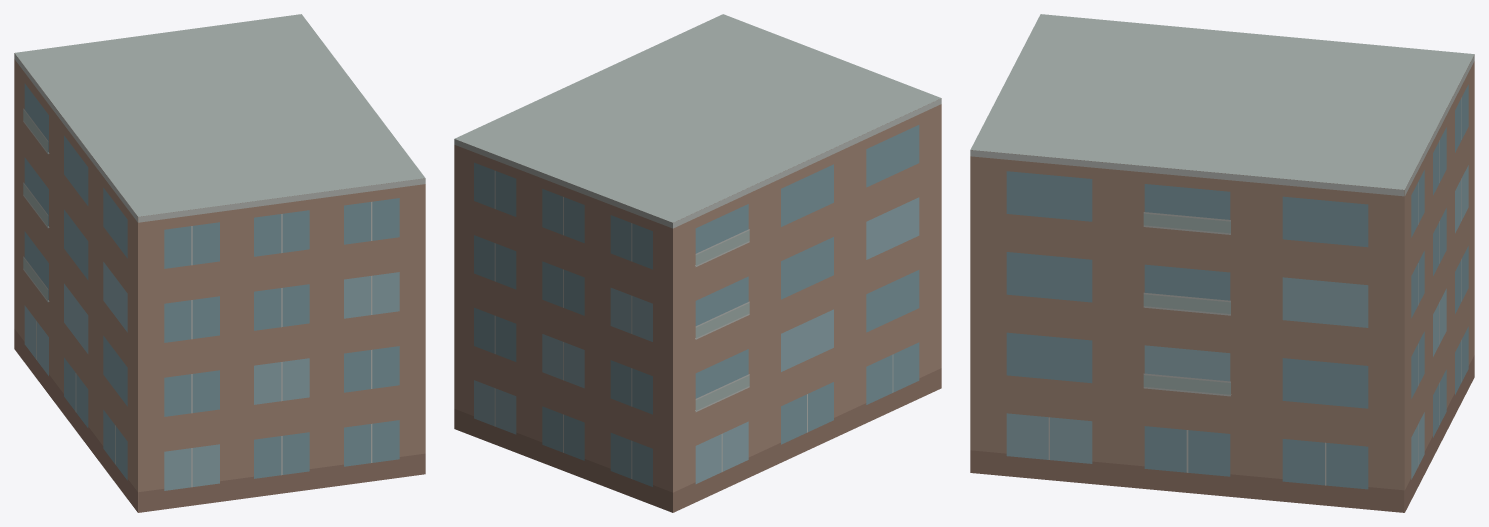
Rendered from residential-3ea36234-a24b-4f5f-b47f-c8ff4a36d06e.glb.
3 renders of one model, left to right at view 1: azimuth 30°, elevation 25°; view 2: azimuth 150°, elevation 25°; view 3: azimuth 270°, elevation 25°, orthographic. The views are drawn at different scales.
Visible parts, largest first — view 1: residential-3ea36234-a24b-4f5f-b47f-c8ff4a36d06e.tmp; view 2: residential-3ea36234-a24b-4f5f-b47f-c8ff4a36d06e.tmp; view 3: residential-3ea36234-a24b-4f5f-b47f-c8ff4a36d06e.tmp.
Boxes of the visible parts, box(x1,y1,x2,y2) form: residential-3ea36234-a24b-4f5f-b47f-c8ff4a36d06e.tmp: box(14, 14, 425, 512); residential-3ea36234-a24b-4f5f-b47f-c8ff4a36d06e.tmp: box(454, 14, 941, 512); residential-3ea36234-a24b-4f5f-b47f-c8ff4a36d06e.tmp: box(970, 14, 1474, 512).
Bounding box in the file's own units: 14.26 × 12.2 × 17.28.
